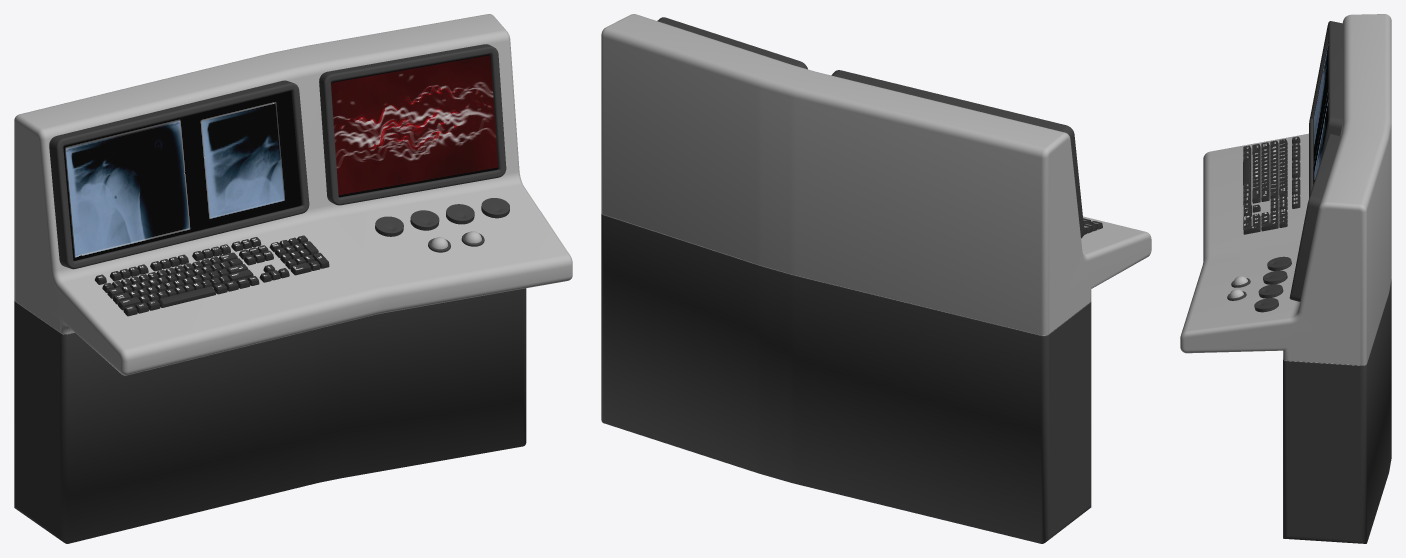
Rendered from ConsoleMed.FBX.
3 views of the same model, side by side, from view 1: azimuth 30°, elevation 25°; view 2: azimuth 150°, elevation 25°; view 3: azimuth 270°, elevation 25° (orthographic). The views are drawn at different scales.
Parts seen in each view (by area): view 1: ConsoleMed; view 2: ConsoleMed; view 3: ConsoleMed.
Part boxes in pixels (x1,y1,x2,y2): ConsoleMed: (14, 14, 572, 543); ConsoleMed: (601, 14, 1151, 543); ConsoleMed: (1180, 14, 1391, 543).
Size of the model in its own units: 1705 by 1390 by 786.
Materials: 4 (2 with a texture image).
